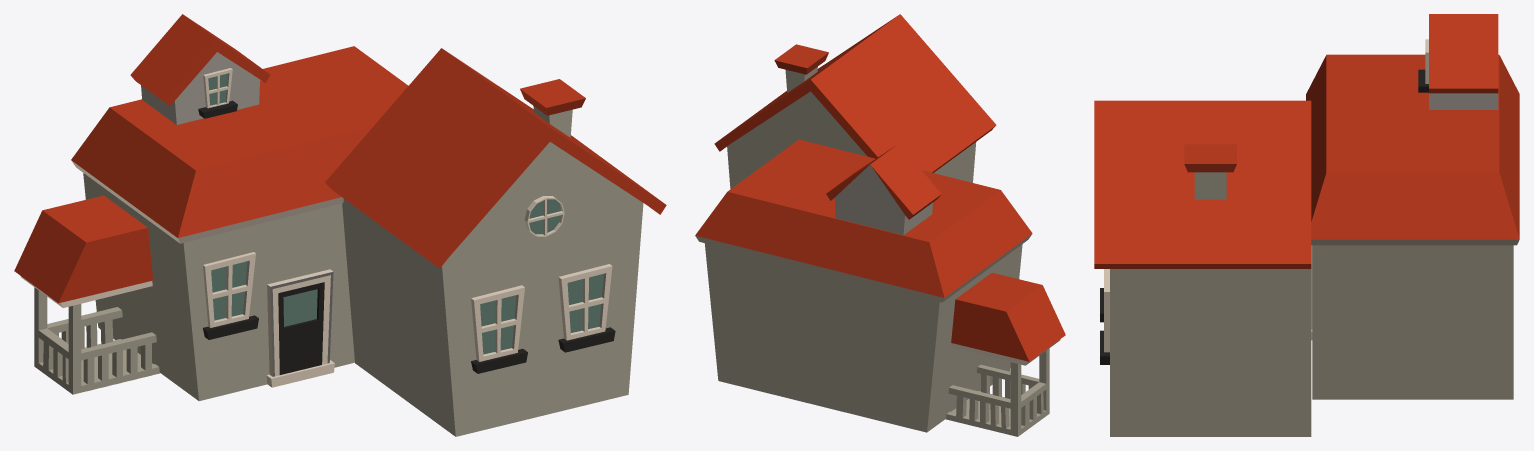
The model's file is house_004.glb.
The picture shows the model from 3 angles, left to right: view 1: azimuth 30°, elevation 25°; view 2: azimuth 150°, elevation 25°; view 3: azimuth 270°, elevation 25°; orthographic projection. The views are drawn at different scales.
Visible parts, largest first — view 1: Cube.077; view 2: Cube.077; view 3: Cube.077.
Boxes of the visible parts, x1=… form: Cube.077: x1=14, y1=14, x2=666, y2=436; Cube.077: x1=695, y1=14, x2=1065, y2=436; Cube.077: x1=1094, y1=14, x2=1519, y2=436.
Bounding box in the file's own units: 5.31 × 3.3 × 4.22.
